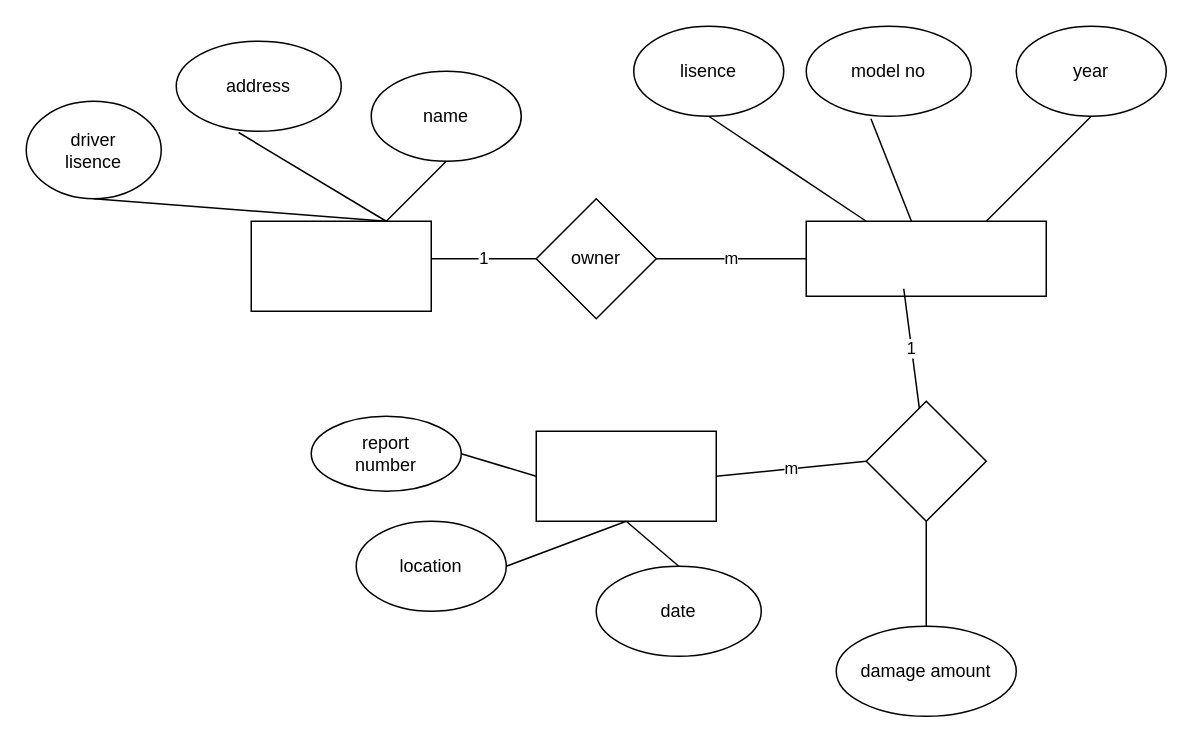
Some shapes in this 1193 by 743 pixel diagram are drawn without their labels. Here are the shapes that lost their labels. From the top down, the box of each, then its label:
(250, 220, 431, 311): customer
(805, 220, 1046, 296): Car
(535, 430, 716, 521): accident
(865, 400, 986, 521): related to
